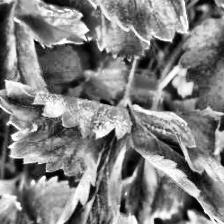Powdery Mildew Leaf: (0, 78, 131, 172), (128, 105, 224, 224), (50, 128, 130, 224), (7, 0, 90, 49)
